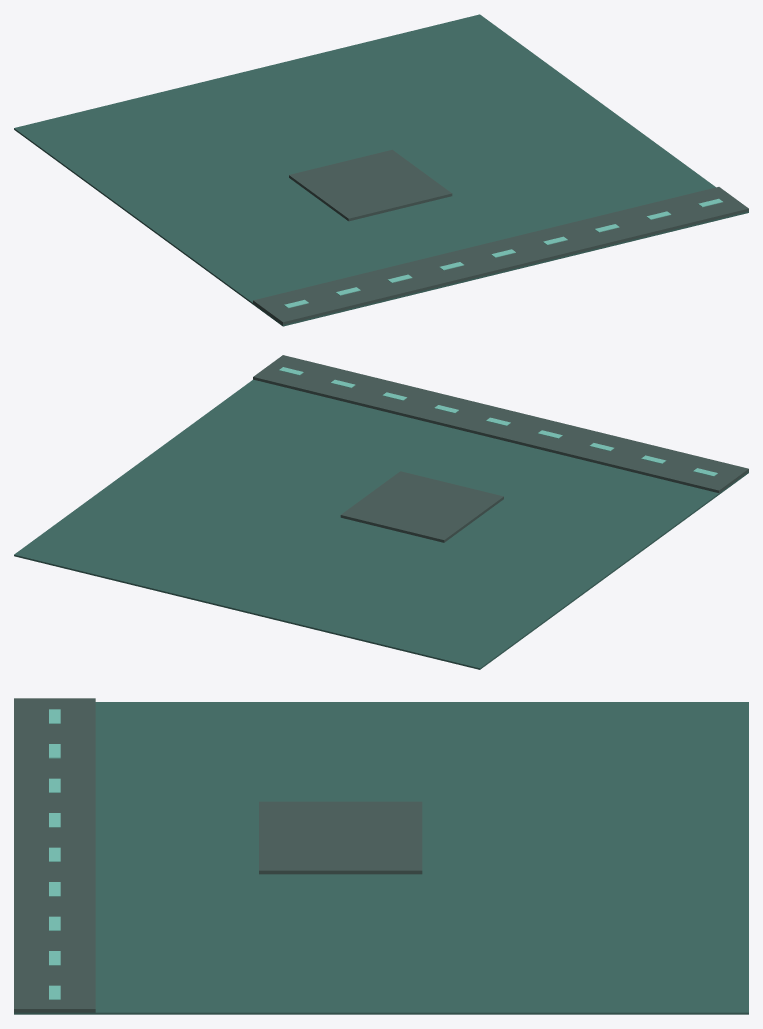
File: stage_01.glb
The picture shows the model from 3 angles, top to bottom: view 1: azimuth 30°, elevation 25°; view 2: azimuth 150°, elevation 25°; view 3: azimuth 270°, elevation 25°; orthographic projection. The views are drawn at different scales.
Visible parts, largest first — view 1: geometry_0; view 2: geometry_0; view 3: geometry_0.
Part boxes in pixels (box(x1,y1,x2,y2)): geometry_0: box(14, 14, 748, 326); geometry_0: box(14, 355, 748, 669); geometry_0: box(14, 698, 748, 1014).
Bounding box in the file's own units: 9 × 0.091 × 9.
